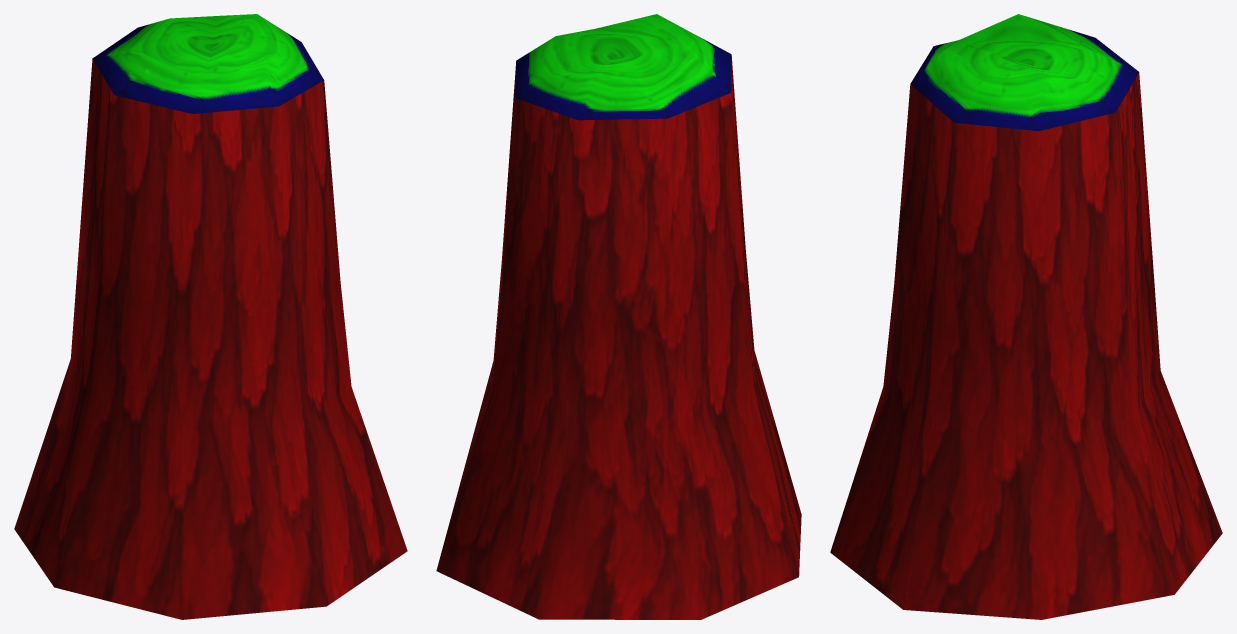
File: SpruceStump01.fbx
The picture shows the model from 3 angles, left to right: view 1: azimuth 30°, elevation 25°; view 2: azimuth 150°, elevation 25°; view 3: azimuth 270°, elevation 25°; orthographic projection.
Parts seen in each view (by area): view 1: SpruceStump01_LOD0; view 2: SpruceStump01_LOD0; view 3: SpruceStump01_LOD0.
Boxes of the visible parts, box(x1,y1,x2,y2) form: SpruceStump01_LOD0: box(14, 14, 407, 619); SpruceStump01_LOD0: box(436, 14, 801, 619); SpruceStump01_LOD0: box(830, 14, 1222, 619).
Size of what is drawn, in the model's own units: 0.4449 by 0.6581 by 0.4711.
